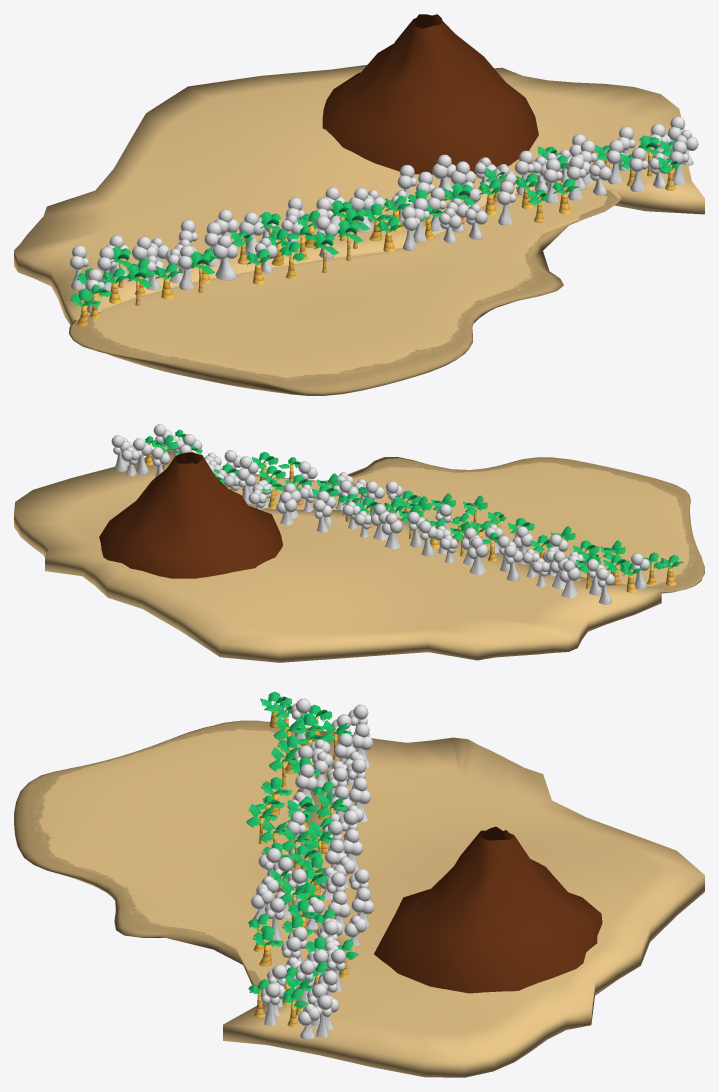
The model's file is isla-volcan-arboles-palmeras.fbx.
3 renders of one model, top to bottom at view 1: azimuth 30°, elevation 25°; view 2: azimuth 150°, elevation 25°; view 3: azimuth 270°, elevation 25°, orthographic. The views are drawn at different scales.
Parts seen in each view (by area): view 1: isla-nojugable.001, Playa, arboles-bola, Volcan, palmeras; view 2: isla-nojugable.001, Playa, arboles-bola, Volcan, palmeras; view 3: isla-nojugable.001, Playa, Volcan, arboles-bola, palmeras.
Part boxes in pixels (bbox=[...]): isla-nojugable.001: bbox=[14, 64, 704, 325]; Playa: bbox=[69, 187, 621, 395]; arboles-bola: bbox=[69, 116, 698, 313]; Volcan: bbox=[322, 14, 538, 174]; palmeras: bbox=[70, 135, 680, 326]; isla-nojugable.001: bbox=[14, 449, 661, 662]; Playa: bbox=[226, 457, 704, 593]; arboles-bola: bbox=[111, 424, 649, 604]; Volcan: bbox=[99, 452, 282, 578]; palmeras: bbox=[145, 429, 683, 592]; isla-nojugable.001: bbox=[223, 731, 704, 1077]; Playa: bbox=[14, 720, 318, 991]; Volcan: bbox=[374, 826, 602, 993]; arboles-bola: bbox=[251, 698, 374, 1039]; palmeras: bbox=[246, 691, 358, 1026].
Bounding box in the file's own units: 19150 × 3848 × 16239.
